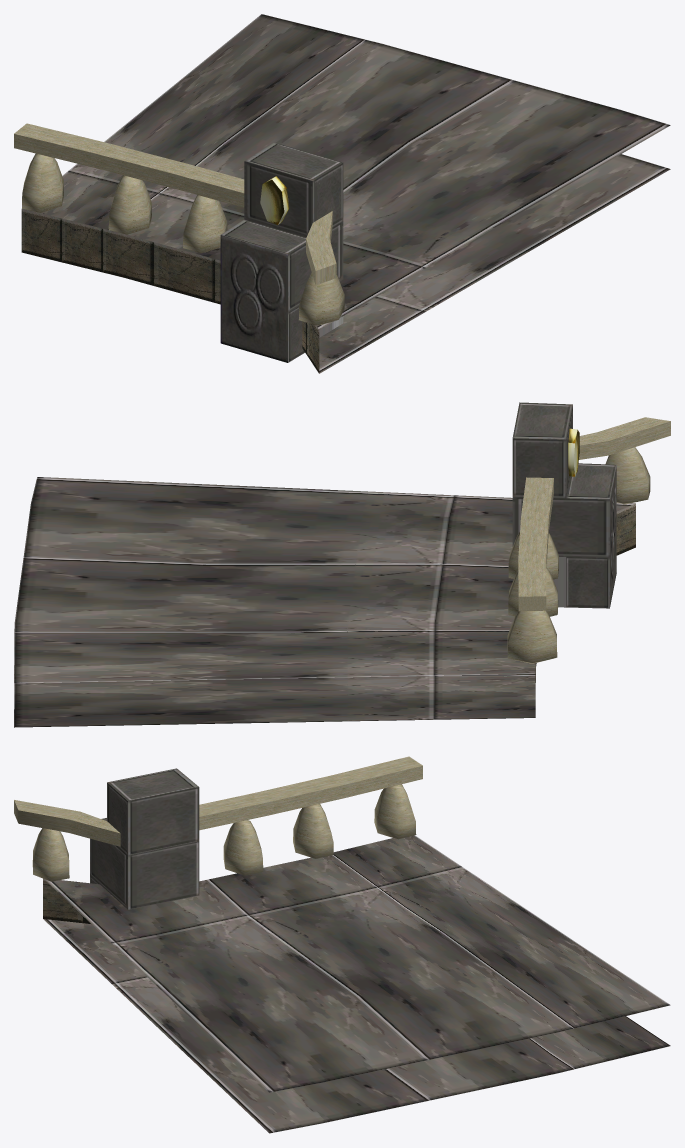
File: CH09_SMAUG_PLAYSURFACE_LAIR30.fbx
The picture shows the model from 3 angles, top to bottom: view 1: azimuth 30°, elevation 25°; view 2: azimuth 150°, elevation 25°; view 3: azimuth 270°, elevation 25°; orthographic projection. The views are drawn at different scales.
Parts seen in each view (by area): view 1: CH09_SMAUG_PLAYSURFACE_LAIR30; view 2: CH09_SMAUG_PLAYSURFACE_LAIR30; view 3: CH09_SMAUG_PLAYSURFACE_LAIR30.
Boxes of the visible parts, <box> form: CH09_SMAUG_PLAYSURFACE_LAIR30: <box>14,14,670,373</box>; CH09_SMAUG_PLAYSURFACE_LAIR30: <box>14,402,670,727</box>; CH09_SMAUG_PLAYSURFACE_LAIR30: <box>14,756,670,1133</box>.
Size of the model in its own units: 84870 by 23218 by 89178.
5 materials, 5 textured.
